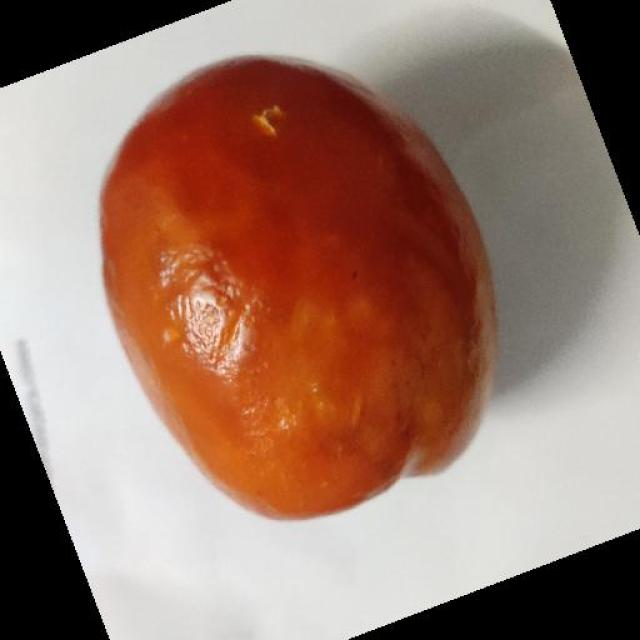Stale_tomato: (90, 100, 502, 490)
